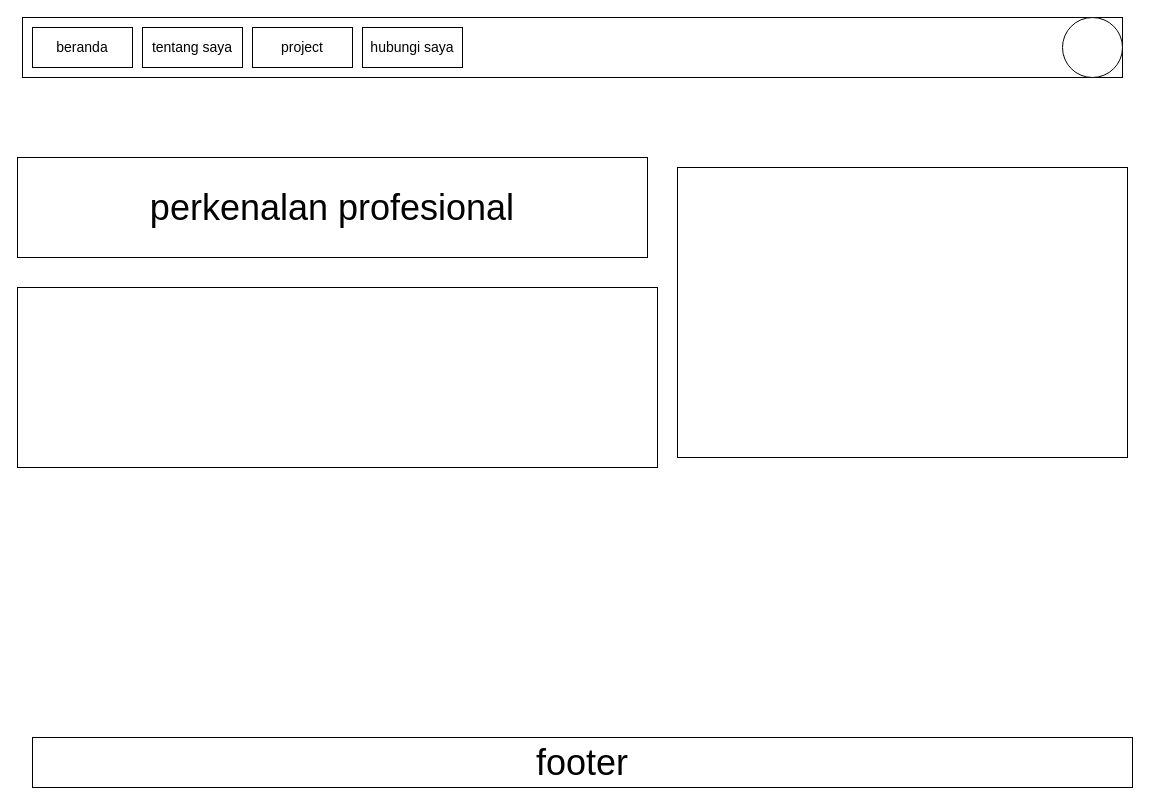
This 1150x805 diagram has some shape labels left out. Here are the shapes that lost their labels. From the top down, the centre of each, then its label:
At point (1092, 47): "logo".
At point (902, 312): "social media".
At point (337, 377): "tech stacks".
